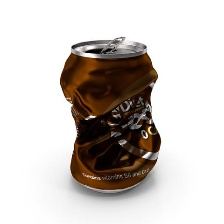can: (56, 35, 168, 196)
